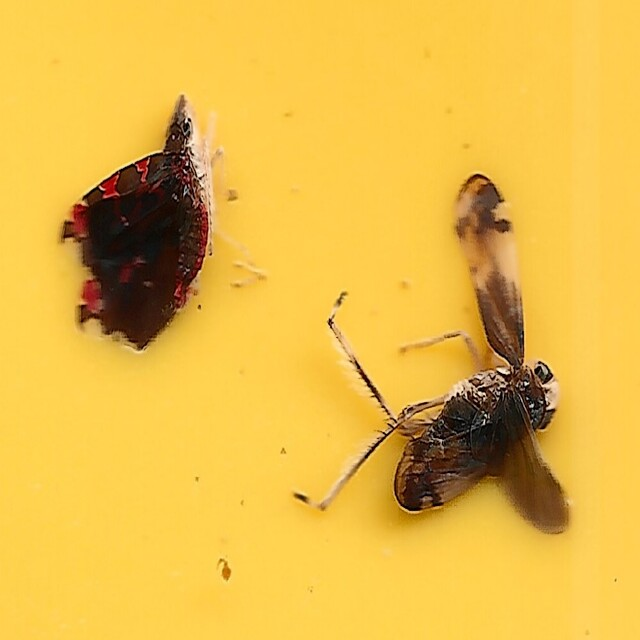Hemiptera: (326, 181, 576, 543), (64, 97, 219, 353)
